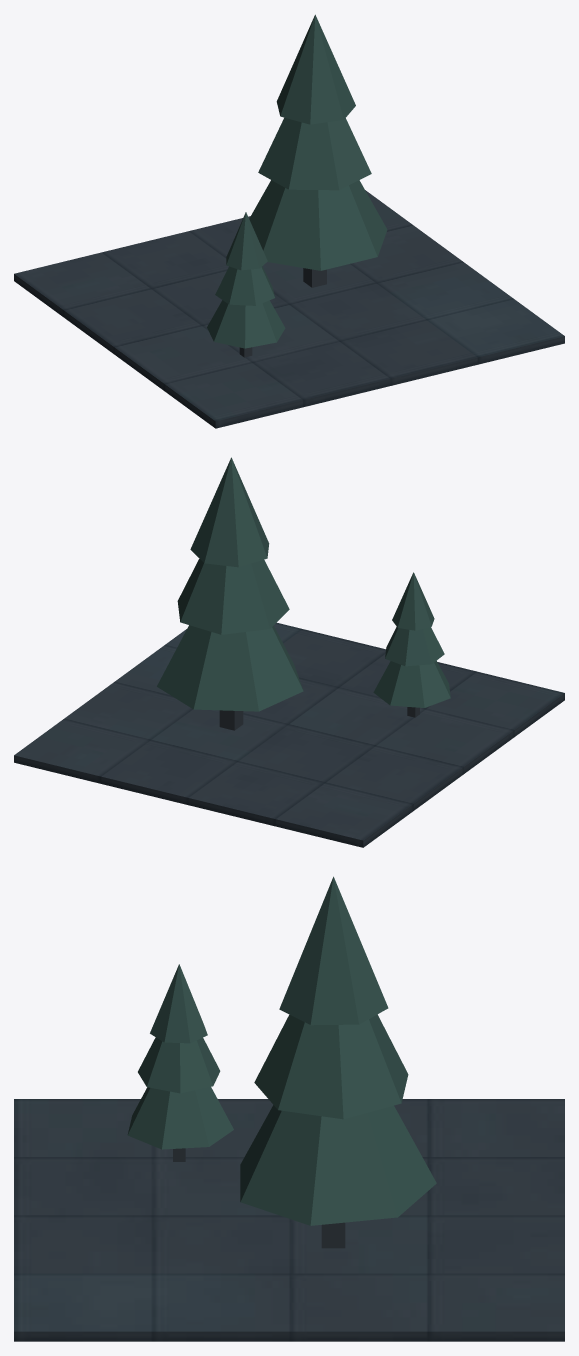
File: decor-trees-tall.glb
3 views of the same model, one above another, from view 1: azimuth 30°, elevation 25°; view 2: azimuth 150°, elevation 25°; view 3: azimuth 270°, elevation 25° (orthographic). The views are drawn at different scales.
Visible parts, largest first — view 1: DecorTreesTall; view 2: DecorTreesTall; view 3: DecorTreesTall.
Boxes of the visible parts, bbox=[...] form: DecorTreesTall: bbox=[14, 14, 564, 428]; DecorTreesTall: bbox=[14, 457, 564, 847]; DecorTreesTall: bbox=[14, 876, 564, 1341].
Size of the model in its own units: 1 by 0.755 by 1.
3 materials, 1 textured.
